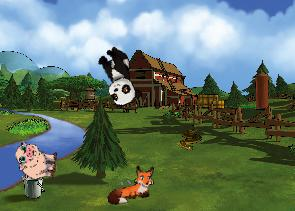fox: (102, 162, 160, 207)
panda: (92, 43, 144, 110)
pig: (13, 140, 59, 182)
